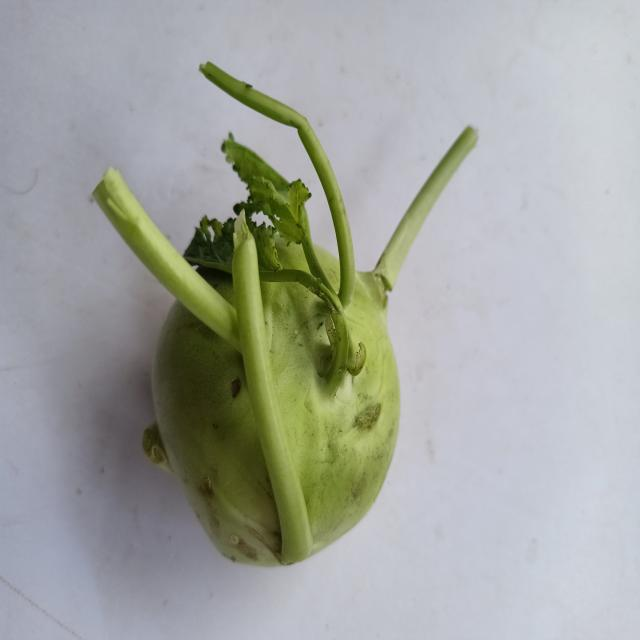Turnip: (85, 47, 500, 583)
